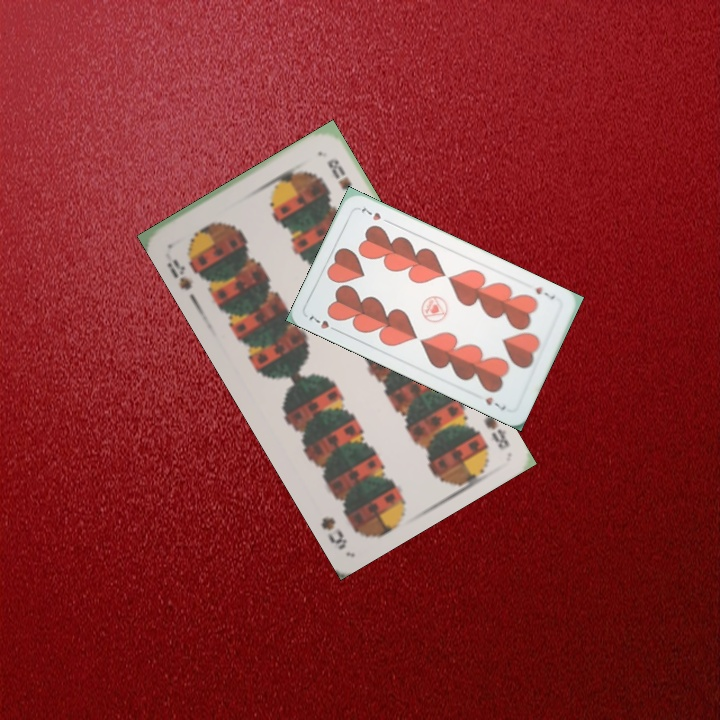H7: (305, 312, 342, 335), (531, 283, 558, 303)
S8: (479, 411, 512, 453), (162, 255, 195, 293)
